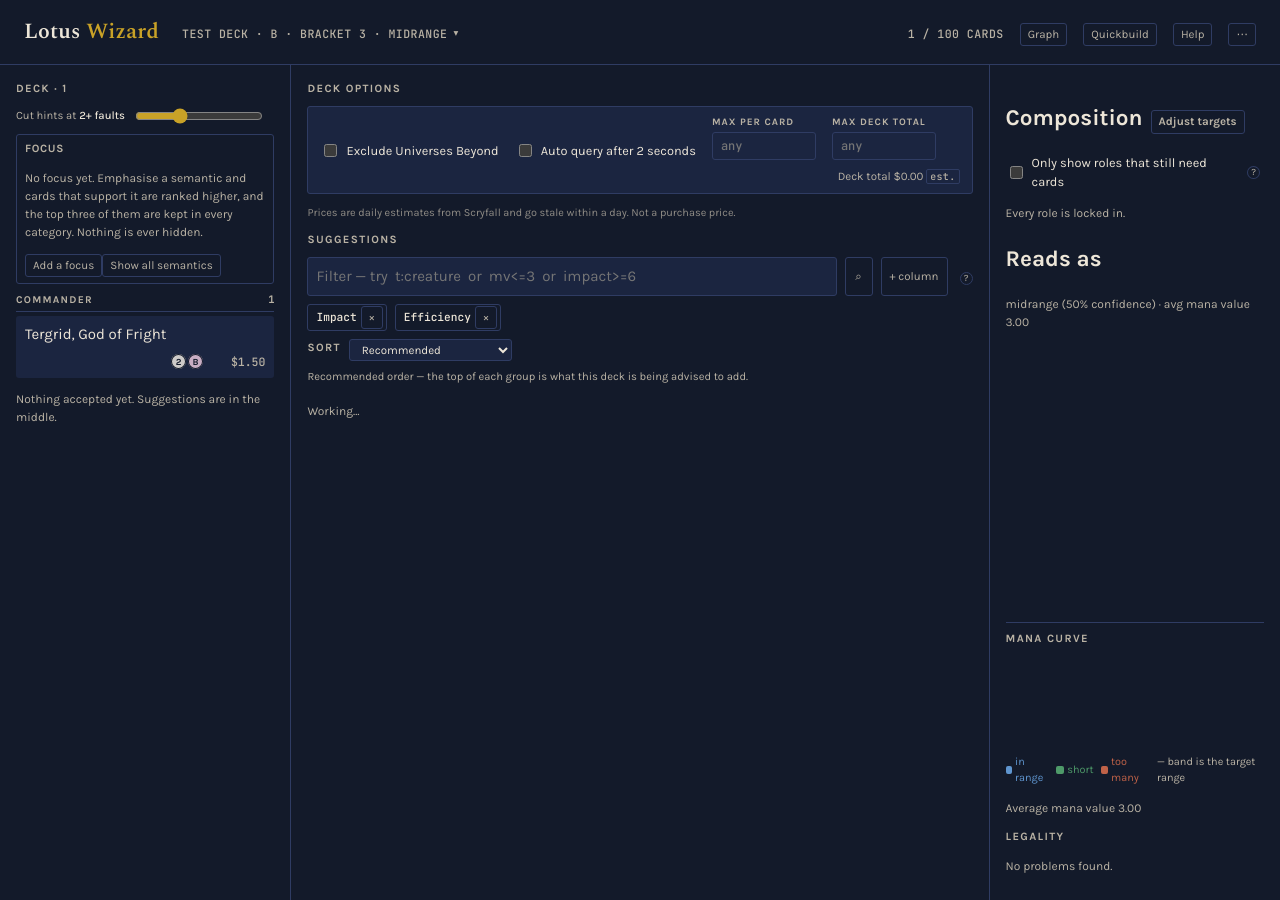
Scenario: the semantics nothing in your colours supports › leaves a tag the counts do not mention where it was — silence is not a zero
expect the button "Tergrid, God of Fright" is shown: met, box top-left (25, 323), bottom-right (266, 345)
Click the button "Show all semantics".
click(162, 266)  # box top-left (102, 254), bottom-right (221, 277)
(page scrolled)
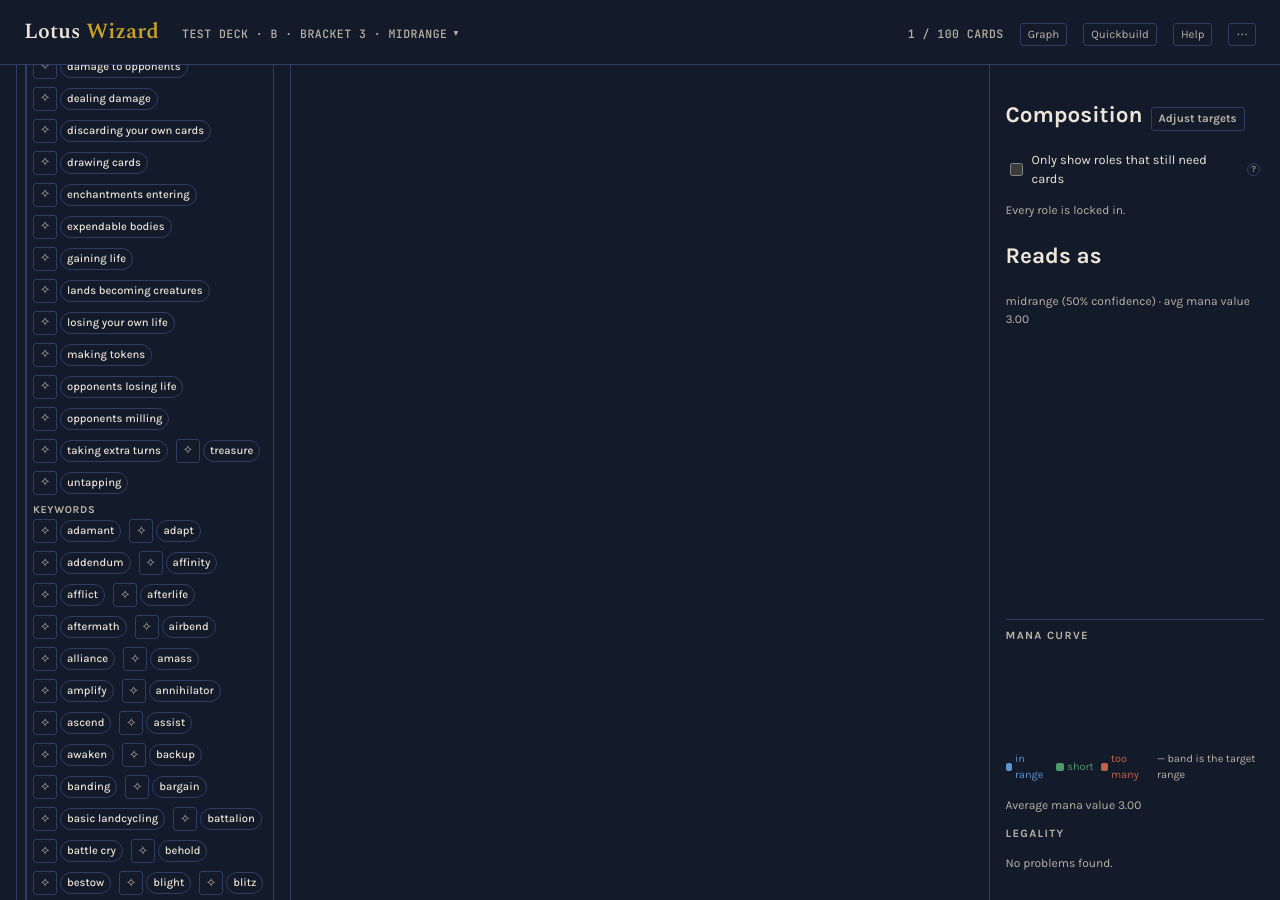
expect the button named "Emphasise treasure" is shown: met, box top-left (176, 439), bottom-right (200, 463)
